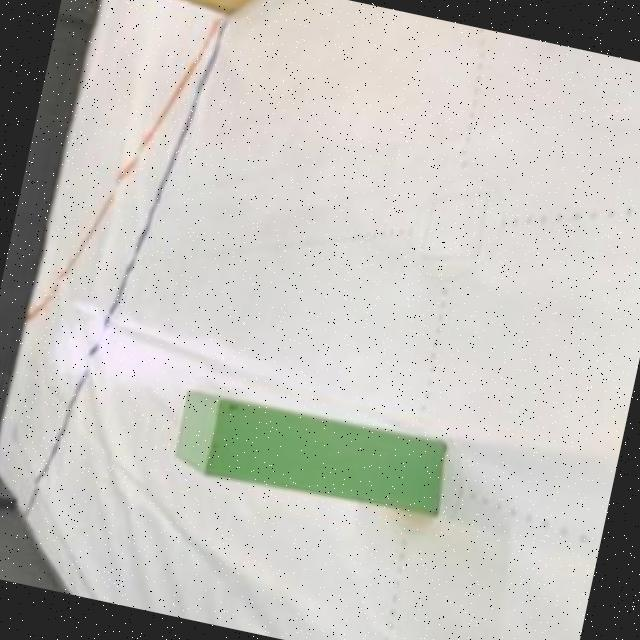greenbox: (166, 382, 456, 523)
